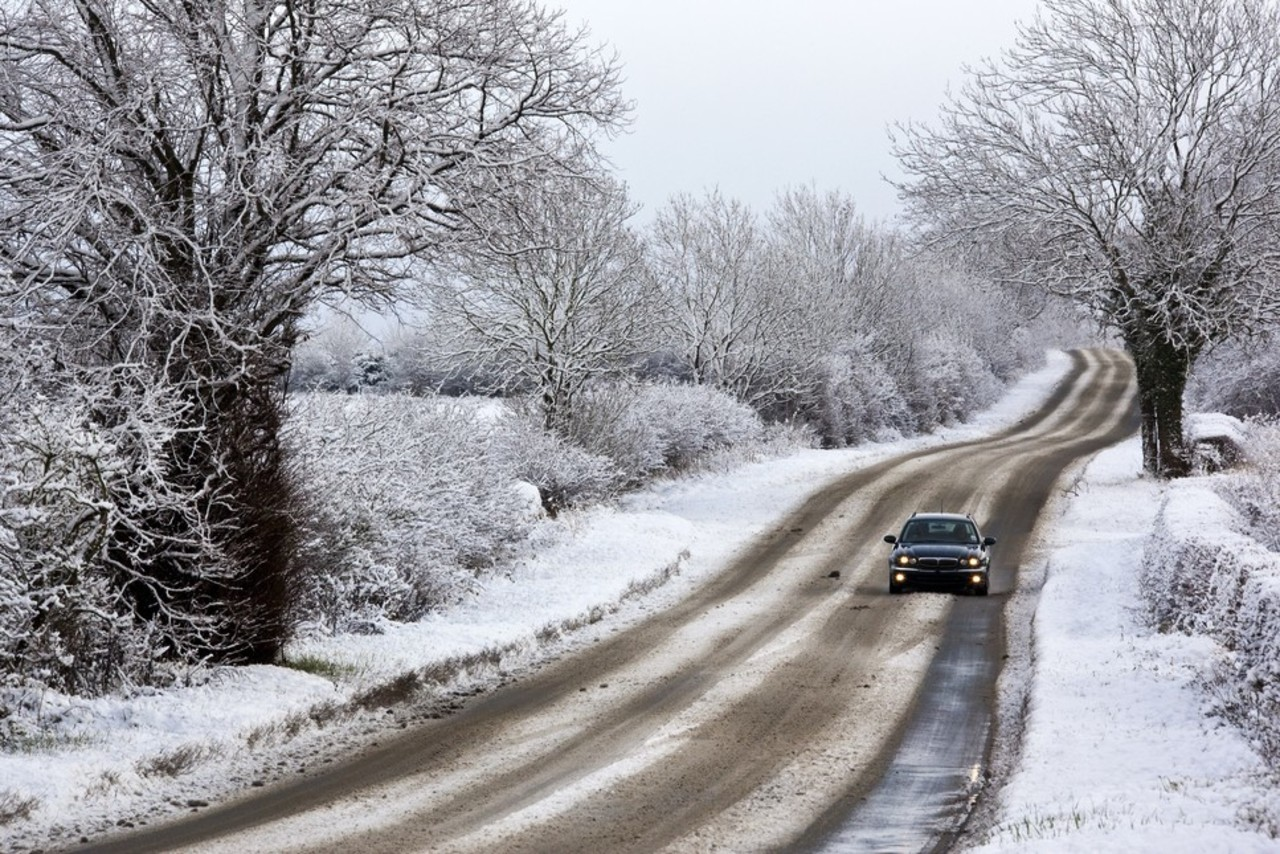car: (887, 511, 996, 595)
